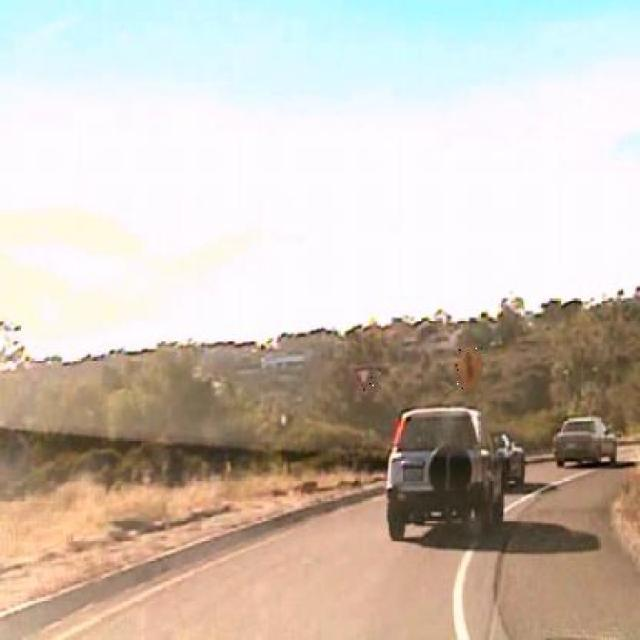merge: (454, 344, 484, 392)
yield: (350, 362, 374, 392)
